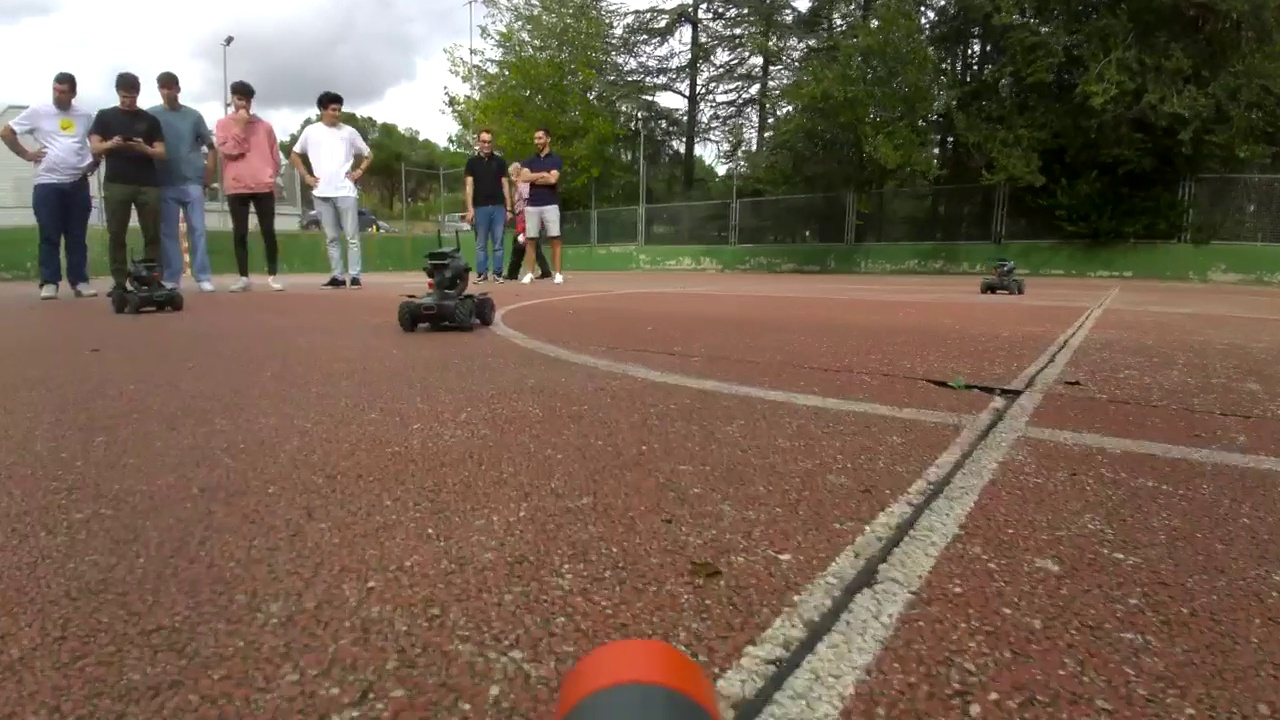robot: (399, 247, 496, 332), (113, 260, 184, 314), (982, 257, 1025, 296)
